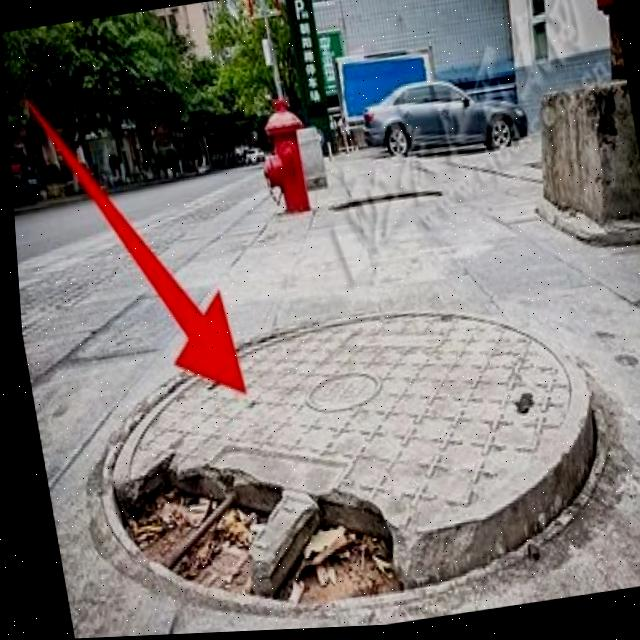manhole: (51, 273, 623, 639)
